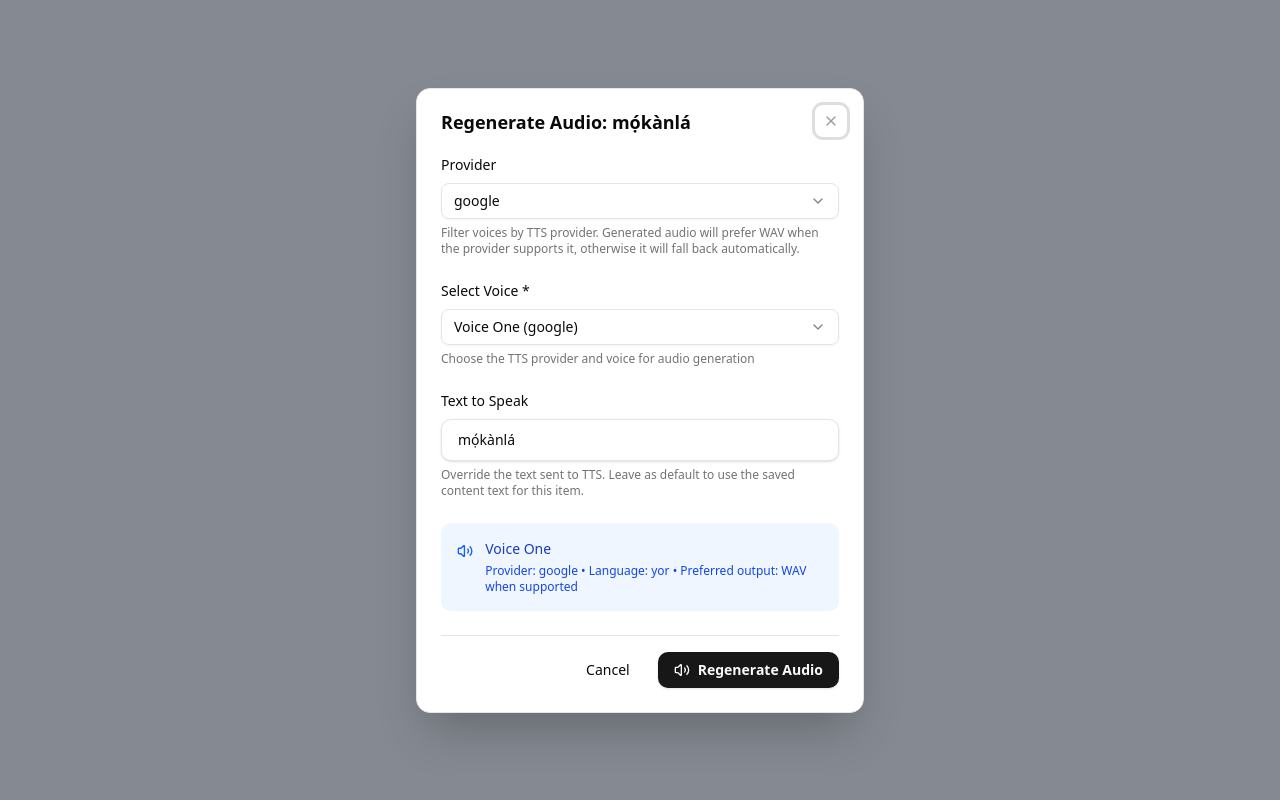
Test: RegenerateAudioModal preview step › shows both Current (live) and New take audio players once a job completes
The image size is (1280, 800).
Expected: the text "Voice One (google)" is shown, [454, 316, 578, 336]
Step 1. Click the button "Regenerate Audio" → (748, 670), box [658, 652, 839, 688]
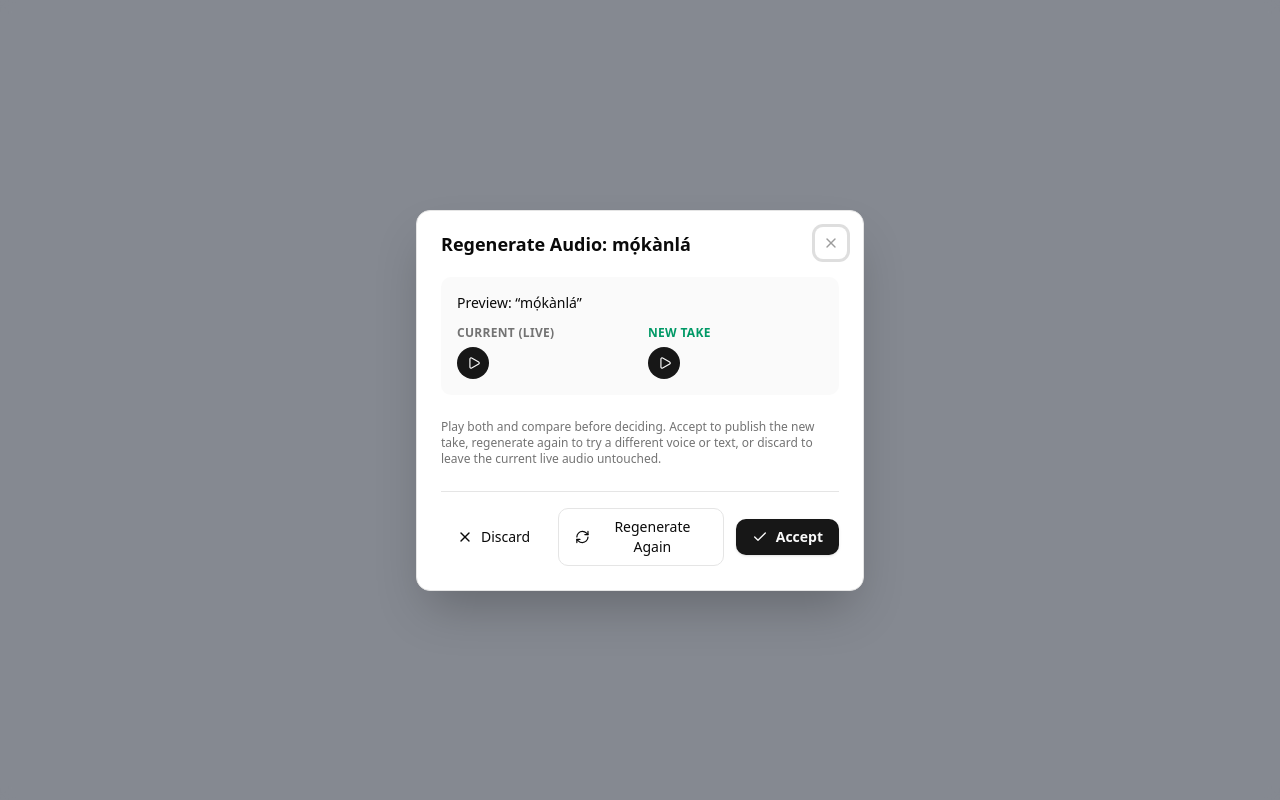
Expected: the text "Current (live)" is shown, [457, 324, 554, 340]
Expected: the text "New take" is shown, [648, 324, 711, 340]
